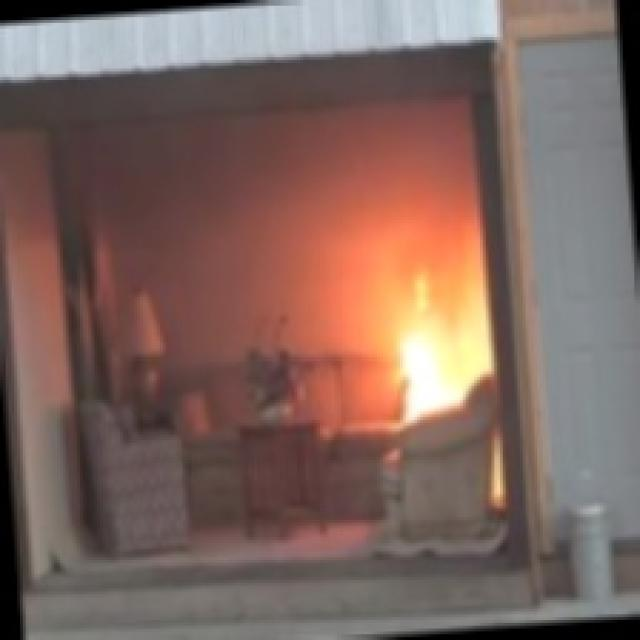fire: (387, 247, 482, 370)
